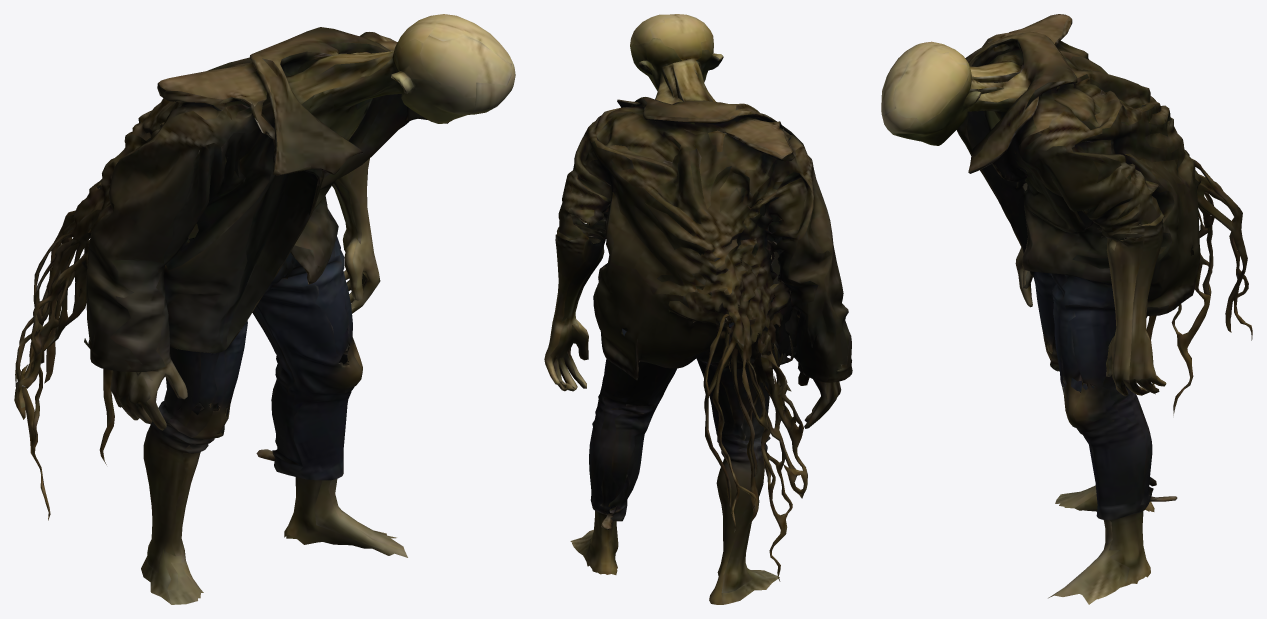
Rendered from monster-t.glb.
3 views of the same model, side by side, from view 1: azimuth 30°, elevation 25°; view 2: azimuth 150°, elevation 25°; view 3: azimuth 270°, elevation 25° (orthographic). The views are drawn at different scales.
Visible parts, largest first — view 1: doll; view 2: doll; view 3: doll.
Boxes of the visible parts, <box> form: doll: <box>14,14,515,604</box>; doll: <box>544,14,852,604</box>; doll: <box>881,14,1252,604</box>.
Bounding box in the file's own units: 0.625 × 1 × 0.6256.
Materials: 1 (1 with a texture image).
